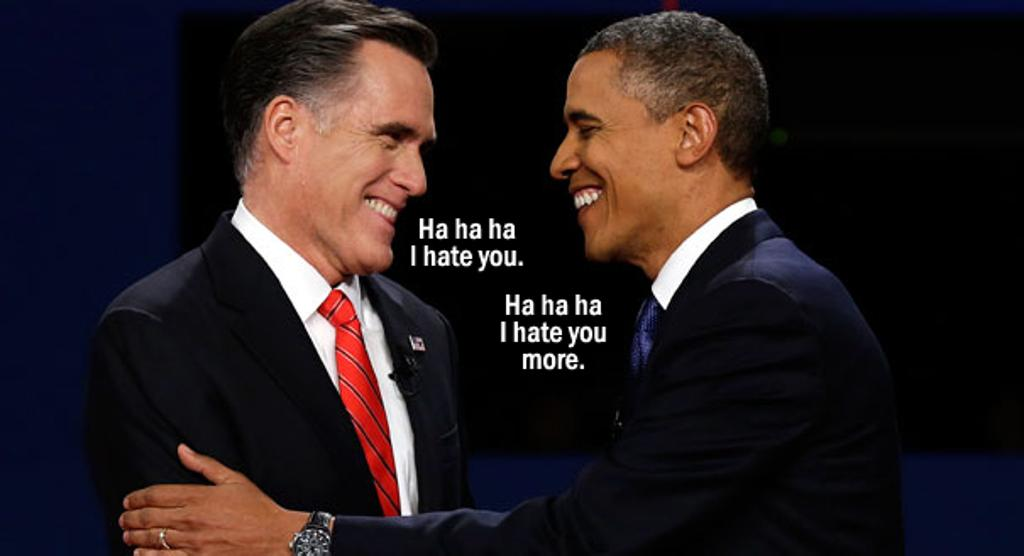face: (300, 42, 432, 266), (550, 50, 676, 254)
